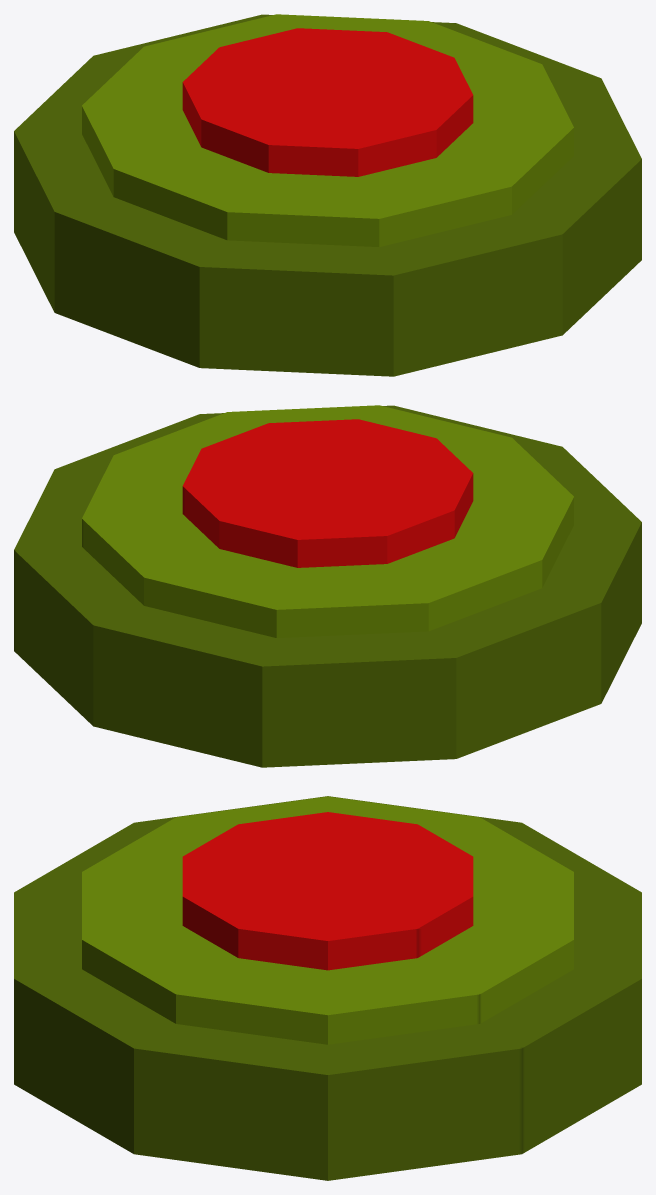
File: mine.obj
3 views of the same model, one above another, from view 1: azimuth 30°, elevation 25°; view 2: azimuth 150°, elevation 25°; view 3: azimuth 270°, elevation 25° (orthographic). The views are drawn at different scales.
Visible parts, largest first — view 1: group1 pCylinder1, group1 pCylinder2, pCylinder3 group1; view 2: group1 pCylinder1, group1 pCylinder2, pCylinder3 group1; view 3: group1 pCylinder1, group1 pCylinder2, pCylinder3 group1.
Boxes of the visible parts, <box> form: group1 pCylinder1: <box>14,14,641,376</box>; group1 pCylinder2: <box>82,14,573,246</box>; pCylinder3 group1: <box>182,28,473,176</box>; group1 pCylinder1: <box>14,405,641,767</box>; group1 pCylinder2: <box>82,405,573,637</box>; pCylinder3 group1: <box>182,419,473,567</box>; group1 pCylinder1: <box>14,796,641,1180</box>; group1 pCylinder2: <box>82,796,573,1044</box>; pCylinder3 group1: <box>182,812,473,970</box>.
Bounding box in the file's own units: 2 × 0.5508 × 1.9.
Materials: 1 (1 with a texture image).
